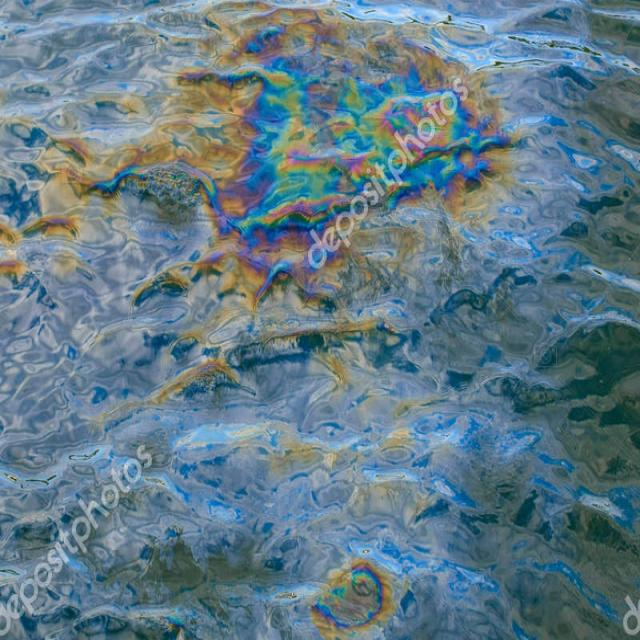-: (0, 0, 517, 640), (85, 0, 623, 252)
